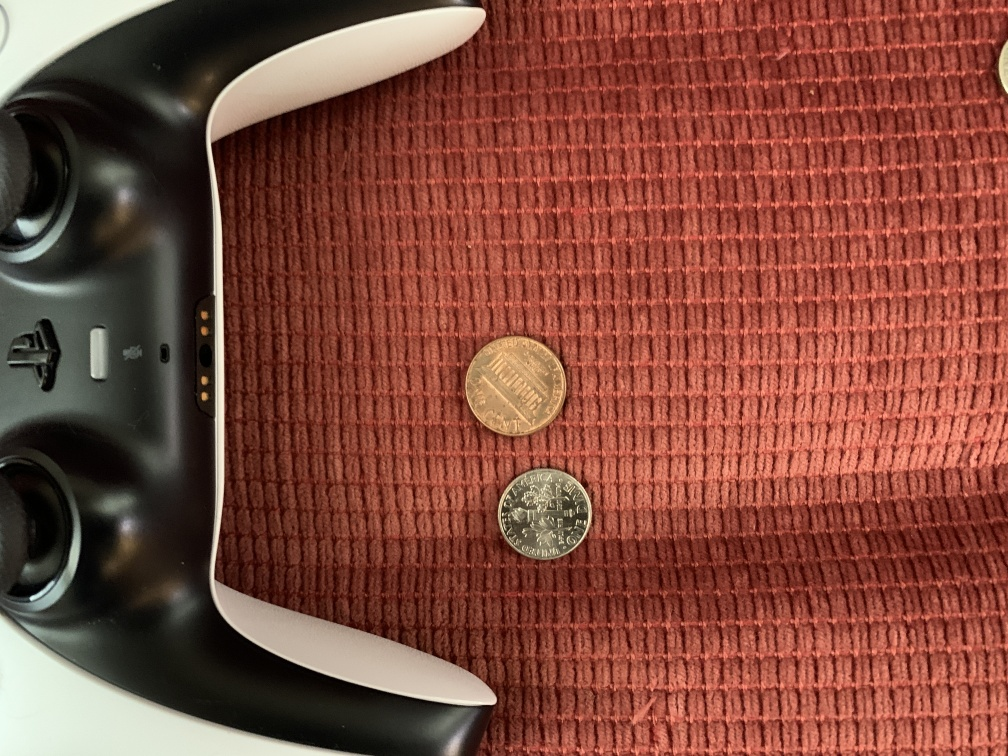dime: (494, 465, 596, 565)
penny: (458, 330, 573, 441)
